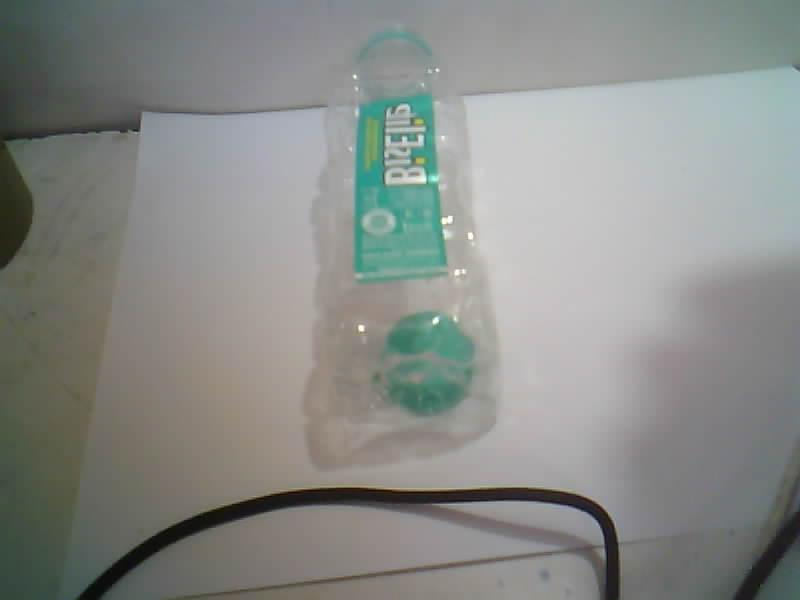non-biodegradable: (307, 28, 498, 462)
